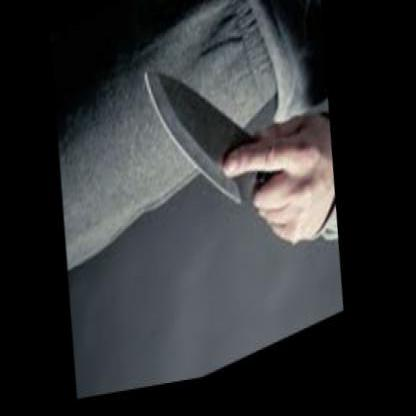knife: (132, 0, 324, 295)
